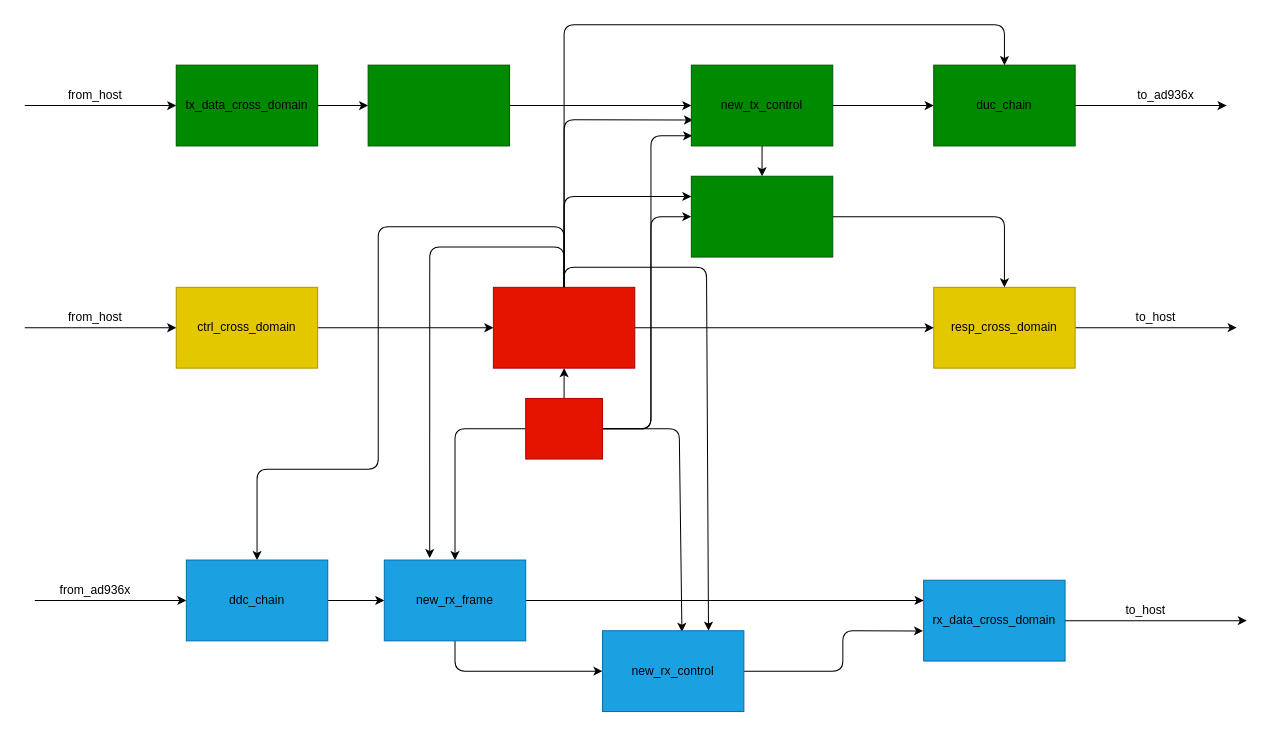
The diagram is 1273 pixels wide and 729 high, and some of its shapes have lost their labels. The shapes that lost their labels are listed below. From the top down, each one's centre as x and y in pixels, then its label:
At [438,105]: "new_tx_frame".
At [761,216]: "new_tx_responder".
At [563,327]: "radio_ctrl_proc".
At [563,428]: "time_keeper".
